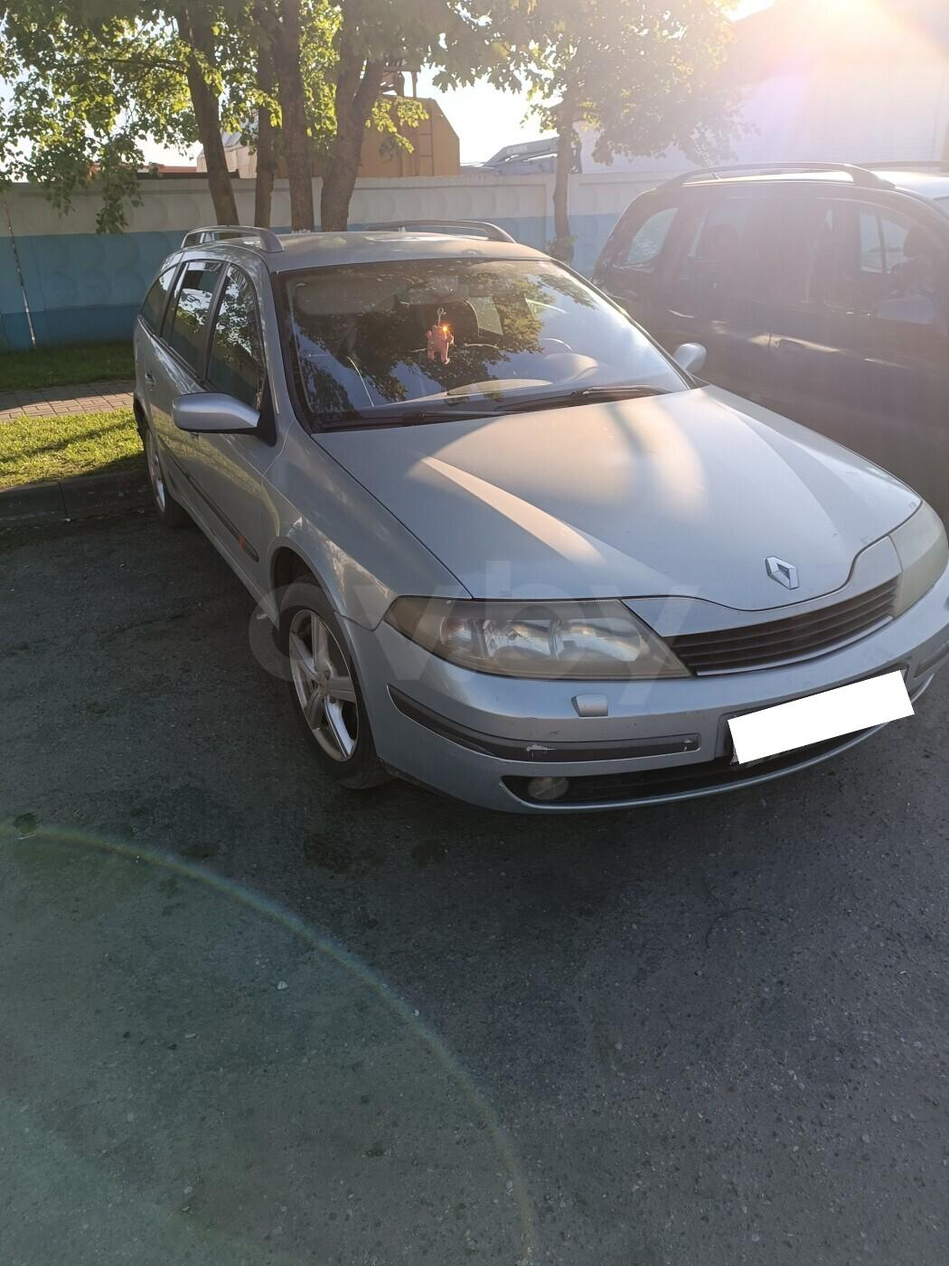Laguna_2001-2005: (134, 221, 948, 814)
